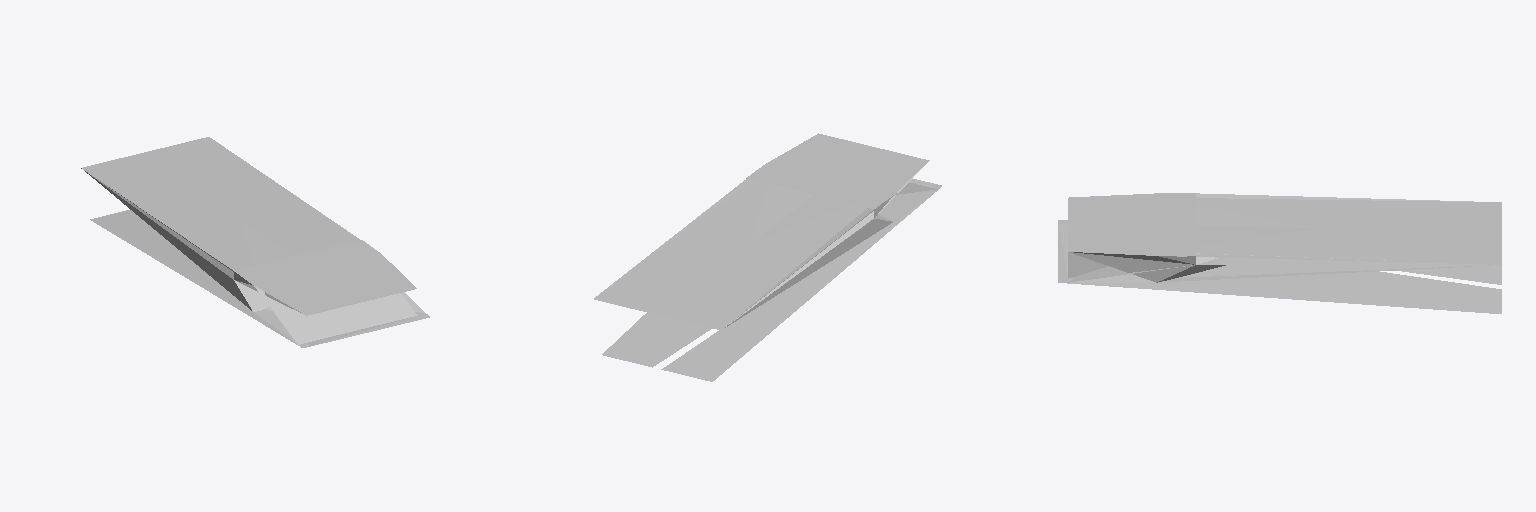
Rendered from Med Bay Cot.obj.
3 views of the same model, side by side, from view 1: azimuth 30°, elevation 25°; view 2: azimuth 150°, elevation 25°; view 3: azimuth 270°, elevation 25° (orthographic).
Bounding box in the file's own units: 15 × 7 × 45.